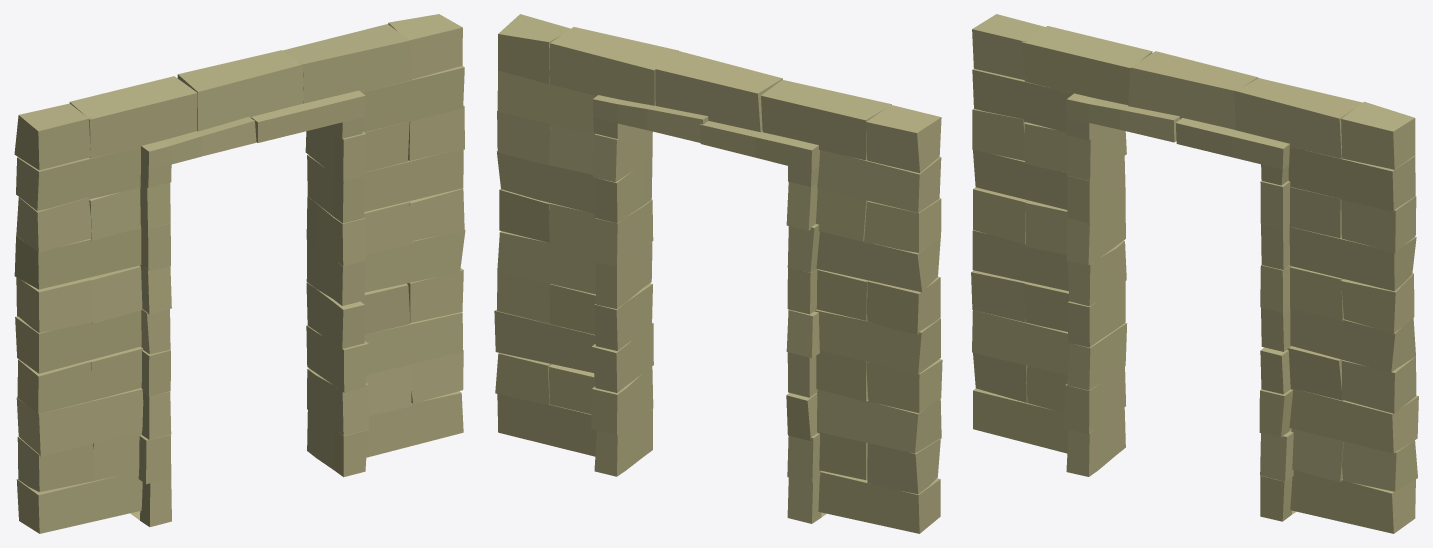
Rendered from WallTypeB.fbx.
The picture shows the model from 3 angles, left to right: view 1: azimuth 30°, elevation 25°; view 2: azimuth 150°, elevation 25°; view 3: azimuth 330°, elevation 25°; orthographic projection.
Parts seen in each view (by area): view 1: WallTypeB; view 2: WallTypeB; view 3: WallTypeB.
Part boxes in pixels (bbox=[...]): WallTypeB: bbox=[14, 14, 465, 533]; WallTypeB: bbox=[494, 14, 942, 533]; WallTypeB: bbox=[971, 14, 1418, 533].
Bounding box in the file's own units: 1012 × 941 × 160.
